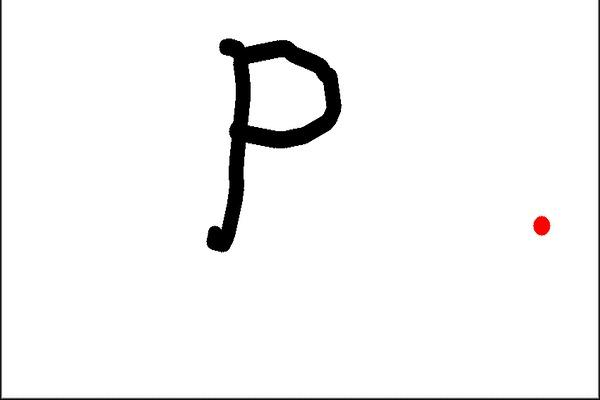P: (195, 28, 343, 270)
